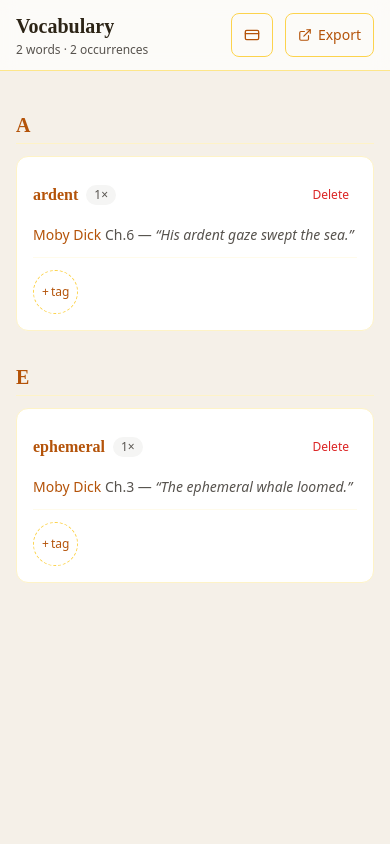
Test: delete button optimistically removes word and shows UndoToast
Expected: the button "ephemeral" is shown, [33,425,105,469]
Click the button with test id "delete-ephemeral" at {"x": 331, "y": 447}, box [304,425,357,469]
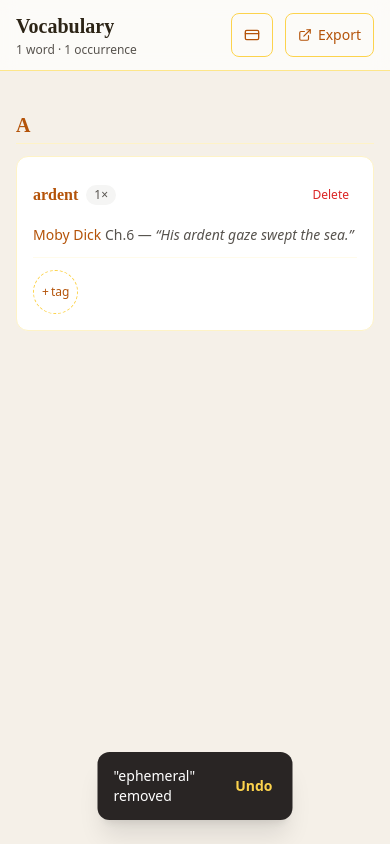
Expected: the text "\"ephemeral\" removed" is shown, [114,766,195,805]
